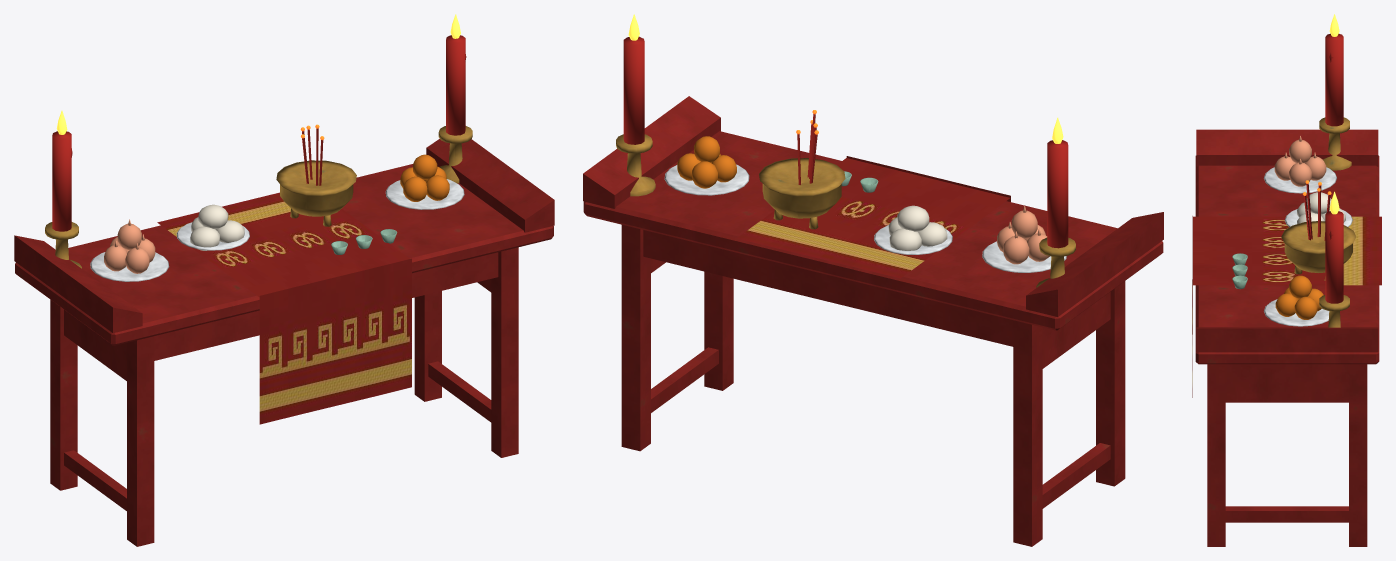
File: offering_table.glb
3 renders of one model, left to right at view 1: azimuth 30°, elevation 25°; view 2: azimuth 150°, elevation 25°; view 3: azimuth 270°, elevation 25°, orthographic. The views are drawn at different scales.
Parts seen in each view (by area): view 1: OfferingTable, Runner, Censer, Candles, Plates, Peaches, Oranges, Buns; view 2: OfferingTable, Runner, Censer, Candles, Plates, Oranges, Buns, Peaches; view 3: OfferingTable, Runner, Censer, Candles, Plates, Peaches, Oranges, Buns, Incense, WineCups, Flames.
Part boxes in pixels (x1,y1,x2,y2): OfferingTable: [14, 139, 554, 546]; Runner: [157, 192, 411, 424]; Censer: [45, 126, 472, 268]; Candles: [52, 35, 466, 231]; Plates: [90, 179, 464, 281]; Peaches: [104, 219, 155, 273]; Oranges: [400, 154, 449, 201]; Buns: [190, 204, 244, 250]; OfferingTable: [583, 96, 1163, 546]; Runner: [737, 156, 1010, 278]; Censer: [616, 134, 1075, 287]; Candles: [623, 36, 1068, 248]; Plates: [664, 164, 1066, 272]; Oranges: [677, 136, 736, 188]; Buns: [888, 205, 947, 250]; Peaches: [997, 206, 1049, 264]; OfferingTable: [1195, 129, 1379, 546]; Runner: [1192, 216, 1381, 397]; Censer: [1281, 117, 1356, 327]; Candles: [1325, 33, 1343, 303]; Plates: [1264, 167, 1352, 326]; Peaches: [1274, 136, 1326, 186]; Oranges: [1275, 275, 1323, 319]; Buns: [1297, 192, 1345, 223]; Incense: [1304, 184, 1330, 240]; WineCups: [1232, 253, 1247, 289]; Flames: [1329, 14, 1339, 214].
Size of what is drawn, in the model's own units: 1.8 by 1.51 by 0.7228.
Materials: 11 (5 with a texture image).
